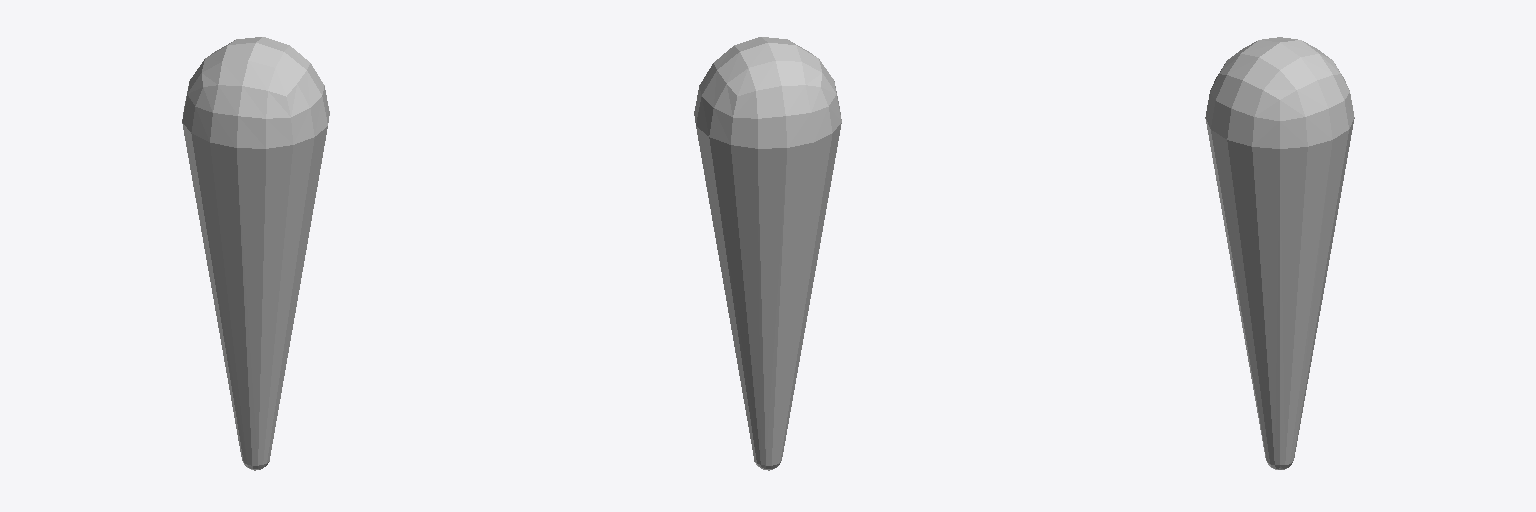
The model's file is LegR.obj.
The picture shows the model from 3 angles: view 1: azimuth 30°, elevation 25°; view 2: azimuth 150°, elevation 25°; view 3: azimuth 270°, elevation 25°; orthographic projection.
Visible parts, largest first — view 1: LegR; view 2: LegR; view 3: LegR.
Part boxes in pixels (bbox=[...]): LegR: bbox=[182, 37, 329, 470]; LegR: bbox=[694, 37, 841, 470]; LegR: bbox=[1205, 37, 1354, 469].
Bounding box in the file's own units: 0.211 × 0.6658 × 0.211.